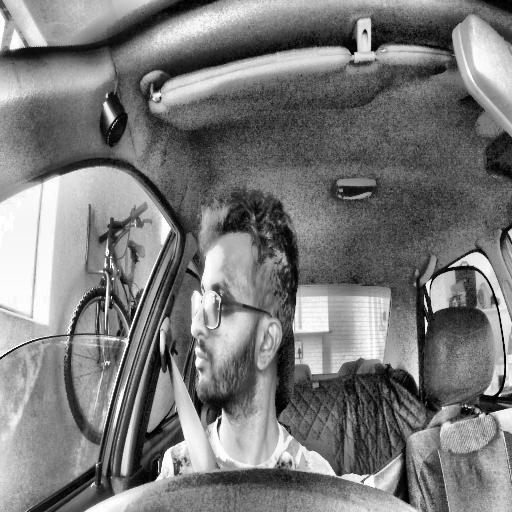awake: (190, 198, 299, 402)
